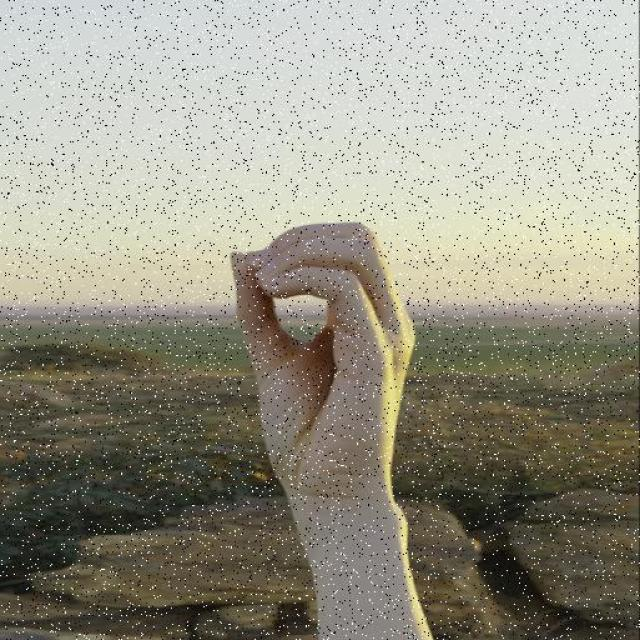O: (227, 220, 422, 500)
